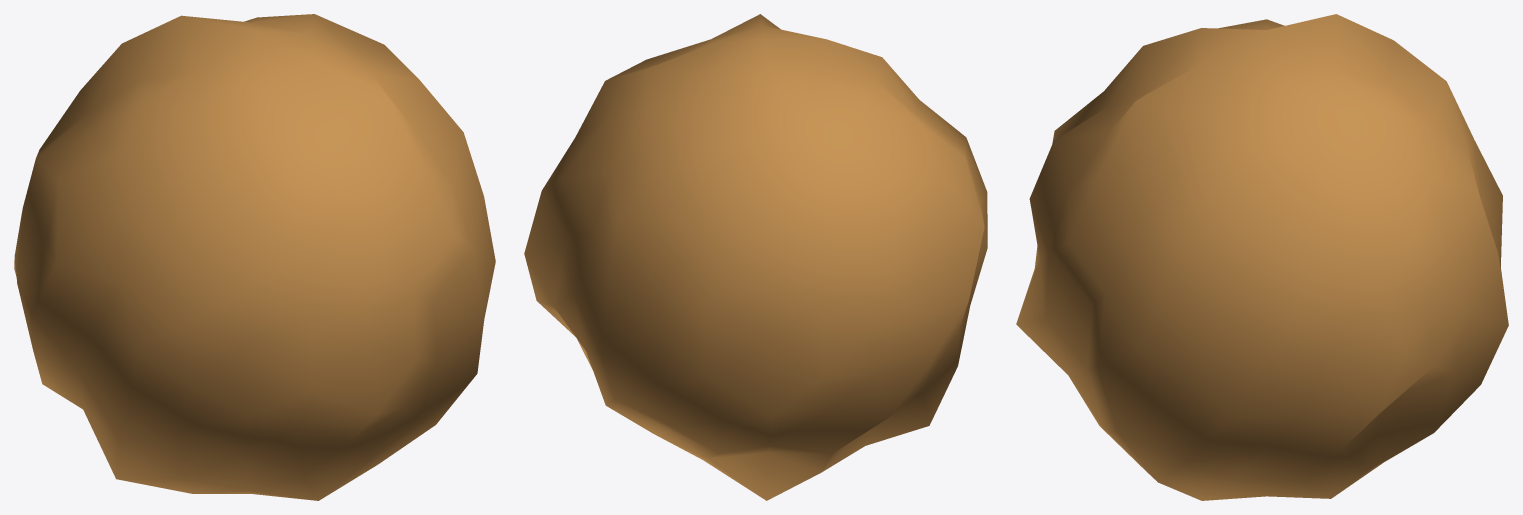
Rendered from bun.glb.
The picture shows the model from 3 angles, left to right: view 1: azimuth 30°, elevation 25°; view 2: azimuth 150°, elevation 25°; view 3: azimuth 270°, elevation 25°; orthographic projection. The views are drawn at different scales.
Visible parts, largest first — view 1: world; view 2: world; view 3: world.
Boxes of the visible parts, left/top/right/bottom form: world: left=14, top=14, right=495, bottom=500; world: left=524, top=14, right=987, bottom=500; world: left=1016, top=14, right=1508, bottom=500.
Size of the model in its own units: 11.69 by 12.17 by 11.64.
